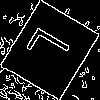L: (25, 25, 81, 73)
